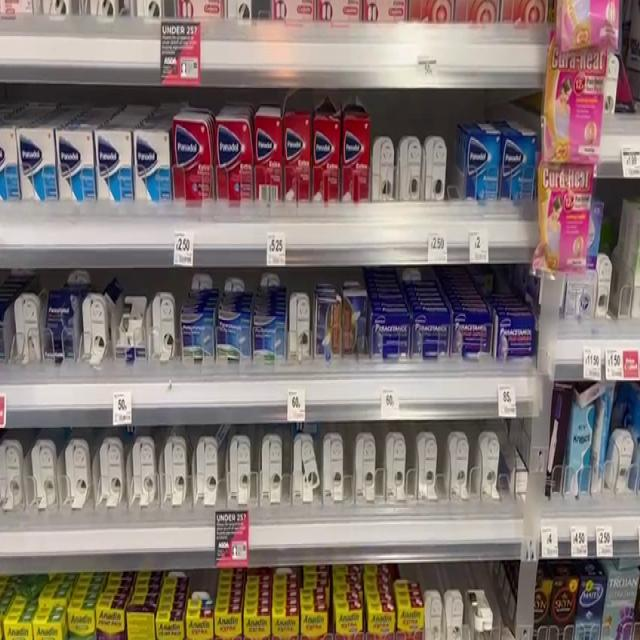Other: (546, 43, 604, 160), (541, 167, 587, 283), (212, 115, 255, 210), (460, 127, 508, 208), (13, 118, 61, 197), (171, 117, 212, 205), (91, 127, 136, 207), (310, 110, 345, 208), (52, 125, 96, 202), (130, 130, 174, 205), (283, 107, 314, 212), (501, 125, 542, 203), (448, 300, 495, 365), (253, 120, 284, 213), (343, 112, 373, 205), (46, 290, 80, 360), (569, 400, 595, 488), (495, 310, 538, 363), (213, 313, 254, 367), (370, 312, 416, 358), (179, 312, 217, 367), (250, 312, 290, 363), (341, 292, 371, 360), (414, 312, 455, 357), (314, 295, 343, 353)
